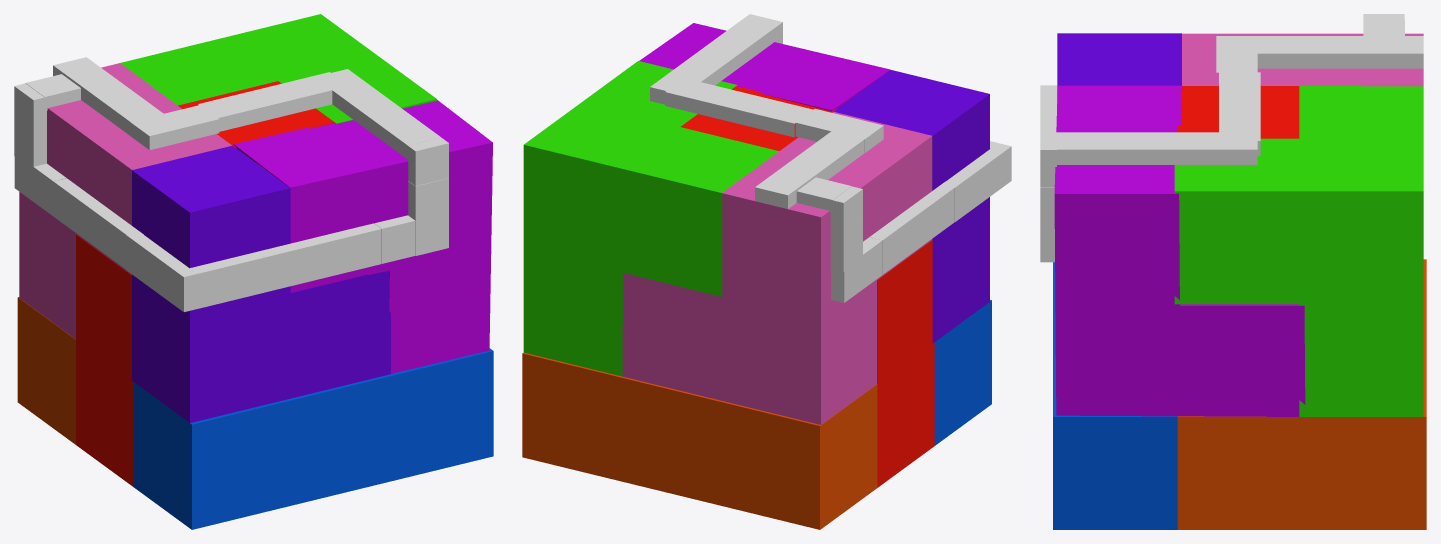
File: Meandering line 1 blend.fbx
3 renders of one model, left to right at view 1: azimuth 30°, elevation 25°; view 2: azimuth 150°, elevation 25°; view 3: azimuth 270°, elevation 25°, orthographic. The views are drawn at different scales.
Parts seen in each view (by area): view 1: Left shoulder.001, Left shoulder.002, T shape, Right shoulder, Red arm, corner cube, L shape; view 2: Right shoulder, corner cube, L shape, Red arm, Left shoulder.001, Left shoulder.002, T shape; view 3: corner cube, Left shoulder.002, L shape, T shape, Right shoulder, Left shoulder.001, Red arm.
Boxes of the visible parts, bbox=[...] form: Left shoulder.001: bbox=[126, 145, 390, 422]; Left shoulder.002: bbox=[233, 95, 492, 373]; T shape: bbox=[134, 348, 493, 529]; Right shoulder: bbox=[14, 57, 235, 338]; Red arm: bbox=[76, 72, 344, 487]; corner cube: bbox=[120, 14, 436, 123]; L shape: bbox=[17, 297, 75, 444]; Right shoulder: bbox=[622, 108, 954, 424]; corner cube: bbox=[523, 61, 778, 376]; L shape: bbox=[522, 352, 877, 529]; Red arm: bbox=[665, 82, 934, 487]; Left shoulder.001: bbox=[834, 70, 1011, 343]; Left shoulder.002: bbox=[639, 14, 890, 111]; T shape: bbox=[934, 300, 991, 445]; corner cube: bbox=[1174, 86, 1423, 416]; Left shoulder.002: bbox=[1040, 85, 1305, 416]; L shape: bbox=[1177, 259, 1426, 529]; T shape: bbox=[1053, 262, 1177, 529]; Right shoulder: bbox=[1182, 14, 1423, 86]; Left shoulder.001: bbox=[1040, 33, 1181, 132]; Red arm: bbox=[1177, 72, 1299, 155].
Bounding box in the file's own units: 631 × 627 × 620.
